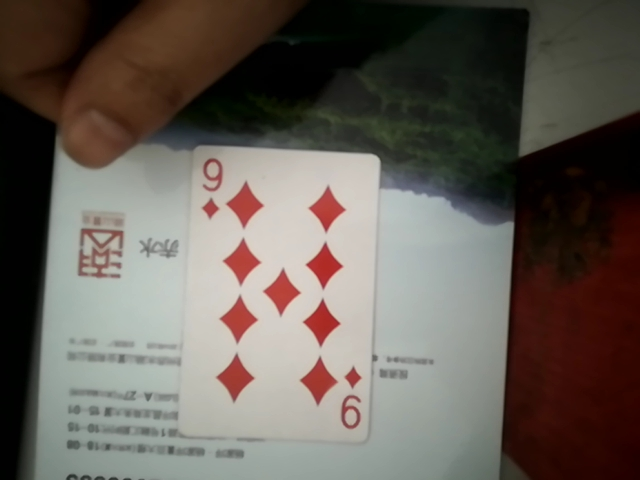fk 9: (172, 149, 373, 451)
